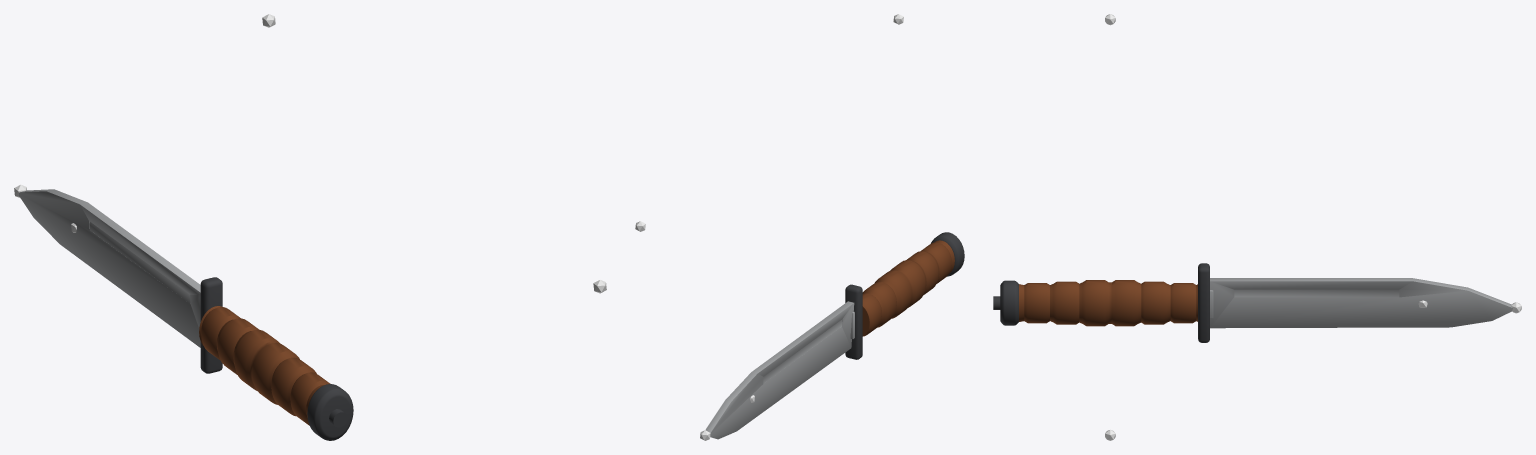
File: CombatKnife.glb
3 renders of one model, left to right at view 1: azimuth 30°, elevation 25°; view 2: azimuth 150°, elevation 25°; view 3: azimuth 270°, elevation 25°, orthographic. The views are drawn at different scales.
Visible parts, largest first — view 1: Blade, Handle, Pommel, Guard; view 2: Blade, Handle, Guard, Pommel; view 3: Blade, Handle, Guard, Pommel.
Boxes of the visible parts, box(x1,y1,x2,y2) form: Blade: box(19, 189, 200, 347); Handle: box(199, 306, 330, 425); Pommel: box(307, 384, 353, 440); Guard: box(200, 277, 222, 373); Blade: box(705, 301, 854, 439); Handle: box(862, 240, 954, 336); Guard: box(845, 284, 862, 359); Pommel: box(931, 232, 964, 276); Blade: box(1210, 278, 1513, 328); Handle: box(1019, 280, 1197, 326); Guard: box(1198, 263, 1209, 342); Pommel: box(993, 280, 1018, 325).
Bounding box in the file's own units: 1.08 × 1.15 × 1.69.
